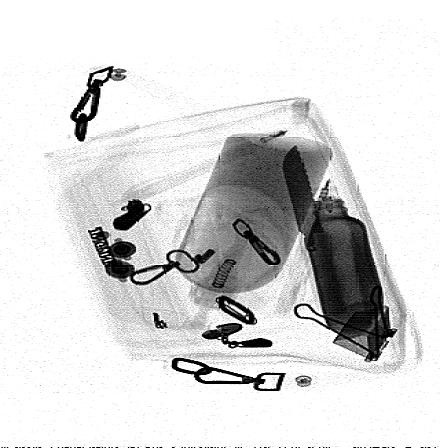Knife: (280, 143, 356, 327)
